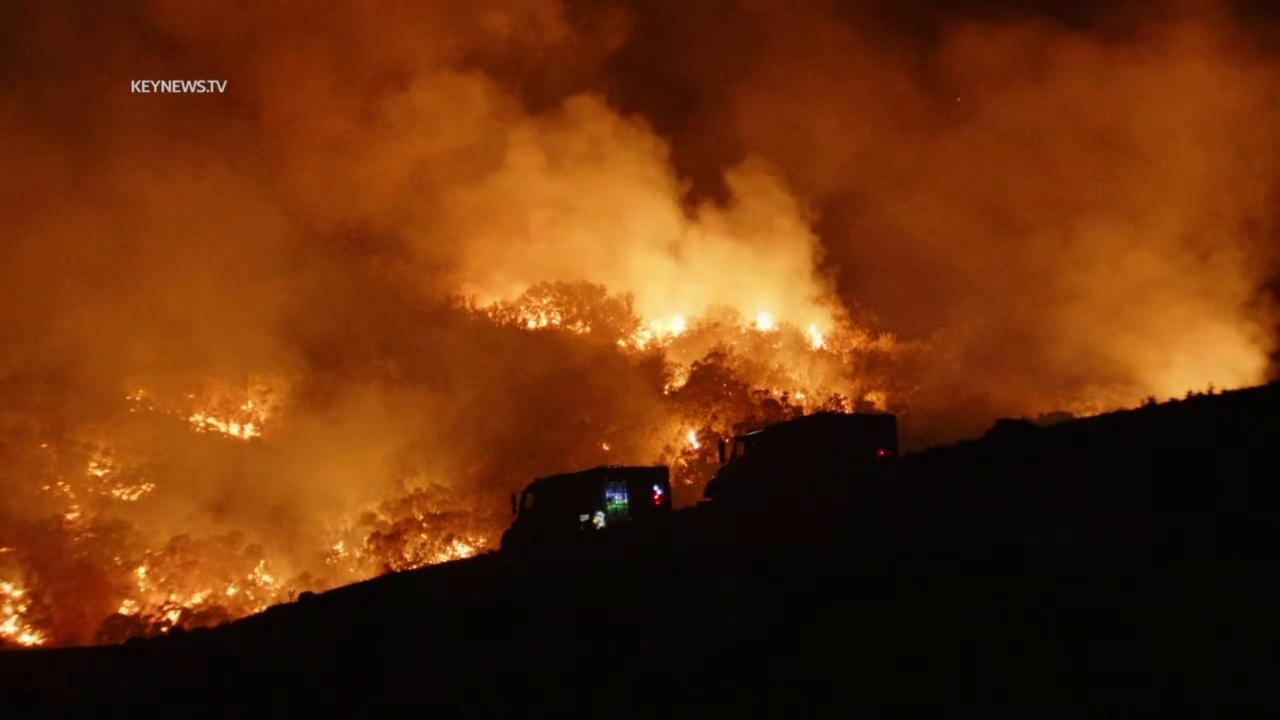fire: (160, 559, 281, 633), (85, 451, 157, 501), (0, 578, 49, 648), (187, 400, 265, 442), (510, 297, 592, 335), (615, 310, 691, 350), (428, 535, 488, 566), (59, 504, 102, 542), (38, 480, 79, 500), (808, 324, 834, 350), (752, 309, 780, 333), (325, 541, 352, 563), (116, 596, 142, 617), (134, 564, 151, 591), (686, 429, 704, 451), (793, 391, 809, 401), (0, 544, 16, 553), (36, 440, 51, 449), (600, 442, 612, 452), (415, 511, 424, 522), (662, 382, 670, 394), (422, 523, 428, 528)
smoke: (0, 0, 1280, 653)
